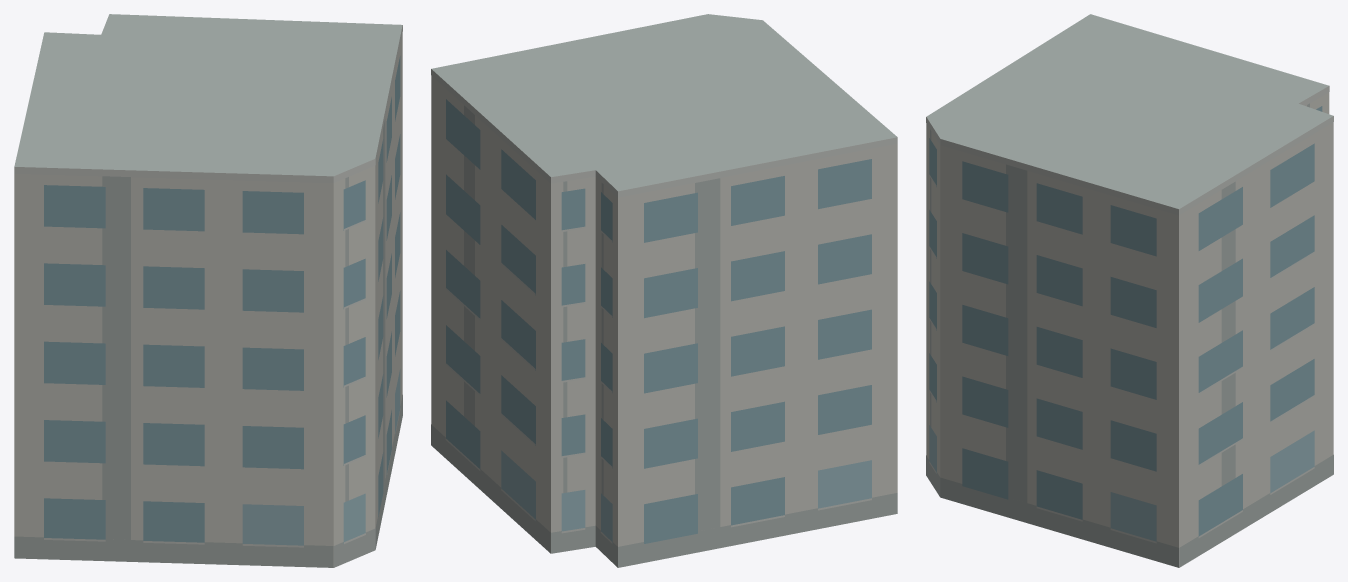
The model's file is survey-upis-32824329.glb.
3 views of the same model, side by side, from view 1: azimuth 30°, elevation 25°; view 2: azimuth 150°, elevation 25°; view 3: azimuth 270°, elevation 25° (orthographic). The views are drawn at different scales.
Parts seen in each view (by area): view 1: survey-upis-32824329.tmp; view 2: survey-upis-32824329.tmp; view 3: survey-upis-32824329.tmp.
Part boxes in pixels (x1,y1,x2,y2): survey-upis-32824329.tmp: [14, 14, 402, 567]; survey-upis-32824329.tmp: [431, 14, 897, 567]; survey-upis-32824329.tmp: [926, 14, 1333, 567].
Bounding box in the file's own units: 16.35 × 14 × 14.42.
